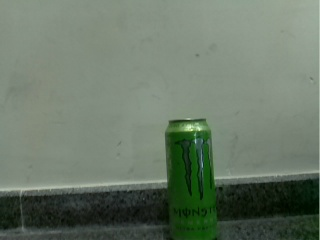botella plastico: (164, 117, 217, 240)
